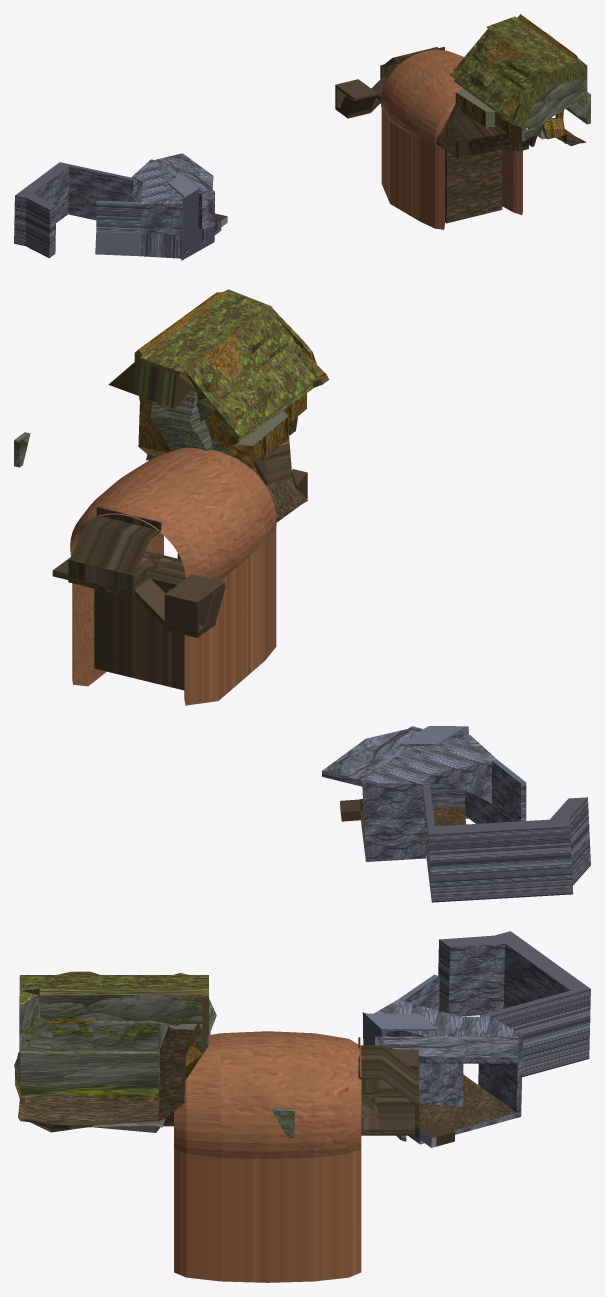
Rendered from rat-cave.glb.
3 renders of one model, top to bottom at view 1: azimuth 30°, elevation 25°; view 2: azimuth 150°, elevation 25°; view 3: azimuth 270°, elevation 25°, orthographic. The views are drawn at different scales.
Parts seen in each view (by area): view 1: Cube.006, Cube.002, Torus, Cube.004, Cube.005, Cube.003; view 2: Cube.006, Torus, Cube.002, Cube.005, Cube.004; view 3: Torus, Cube.006, Cube.002, Cube.003, Cube.005, Cube.
Part boxes in pixels (<box>): Cube.006: <box>14,153,227,260</box>; Cube.002: <box>450,14,587,146</box>; Torus: <box>380,49,522,229</box>; Cube.004: <box>435,103,537,223</box>; Cube.005: <box>335,47,444,118</box>; Cube.003: <box>566,92,590,124</box>; Cube.006: <box>322,726,590,902</box>; Torus: <box>70,447,276,705</box>; Cube.002: <box>108,289,329,469</box>; Cube.005: <box>52,506,225,690</box>; Cube.004: <box>177,417,307,559</box>; Torus: <box>174,1031,361,1282</box>; Cube.006: <box>362,931,590,1147</box>; Cube.002: <box>15,971,216,1132</box>; Cube.003: <box>14,1050,158,1097</box>; Cube.005: <box>358,1037,419,1135</box>; Cube: <box>272,1108,294,1137</box>.
Bounding box in the file's own units: 234 × 106 × 169.
7 materials, 7 textured.
